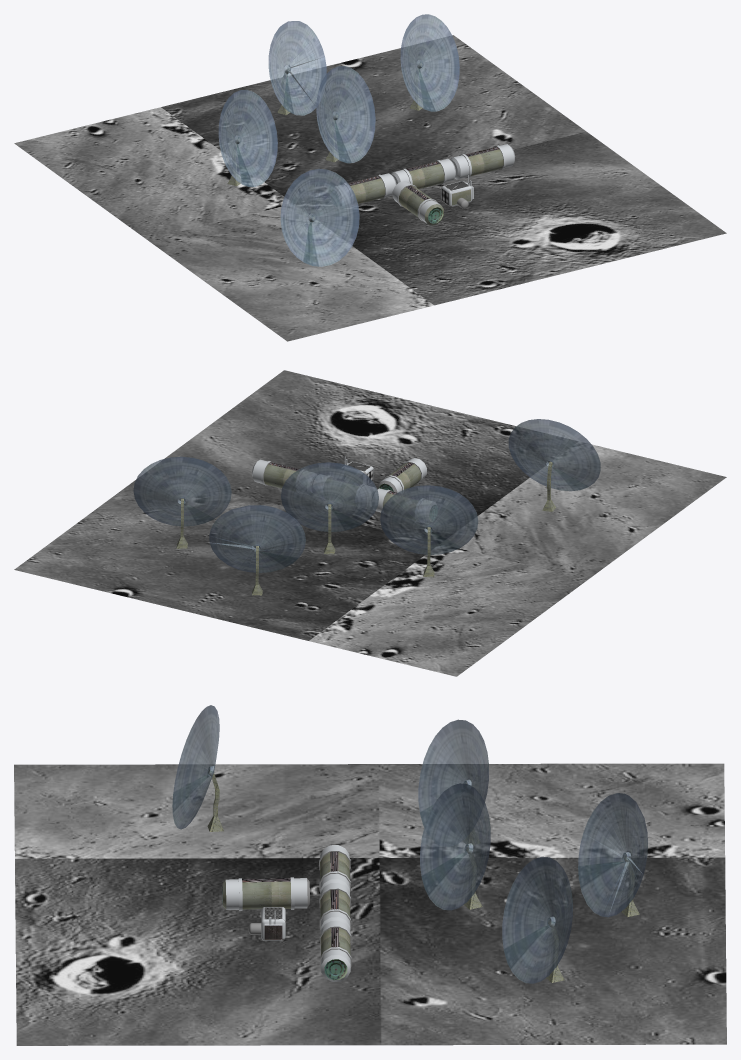
The model's file is powerPlant.FBX.
3 renders of one model, top to bottom at view 1: azimuth 30°, elevation 25°; view 2: azimuth 150°, elevation 25°; view 3: azimuth 270°, elevation 25°, orthographic. The views are drawn at different scales.
Parts seen in each view (by area): view 1: Object03, Circle05; view 2: Object03, Circle05; view 3: Object03, Circle05.
Boxes of the visible parts, x1,y1,x2,y2 form: Object03: [14, 35, 726, 341]; Circle05: [218, 14, 515, 266]; Object03: [14, 370, 726, 676]; Circle05: [133, 419, 600, 595]; Object03: [14, 763, 726, 1045]; Circle05: [172, 705, 647, 983].
Bounding box in the file's own units: 634 × 125 × 677.
